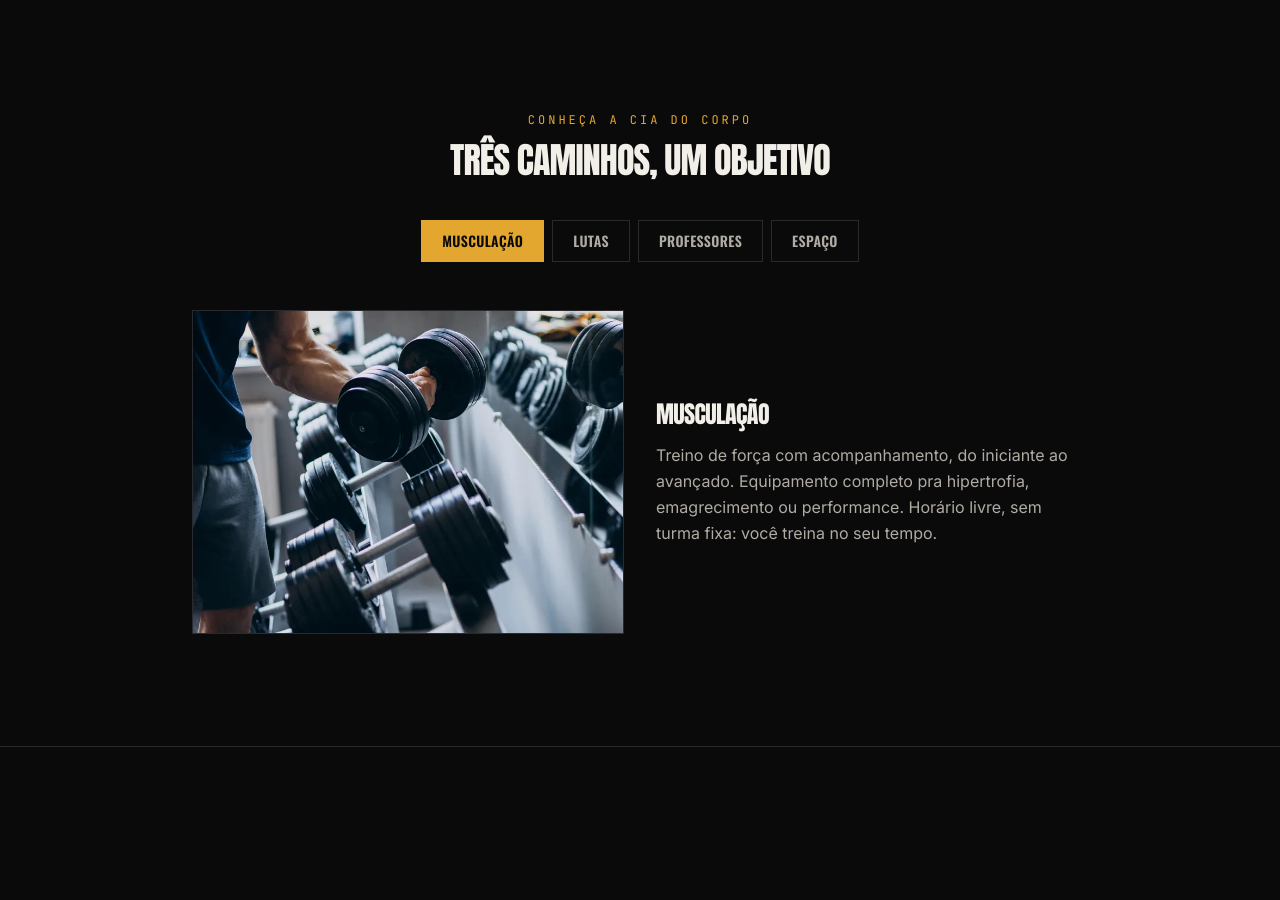
SessoesTabs › troca pra aba Lutas e mostra Kickboxing e Jiu-Jitsu
Click the tab "Lutas".
click(591, 241)  # box 552,220 -> 630,262
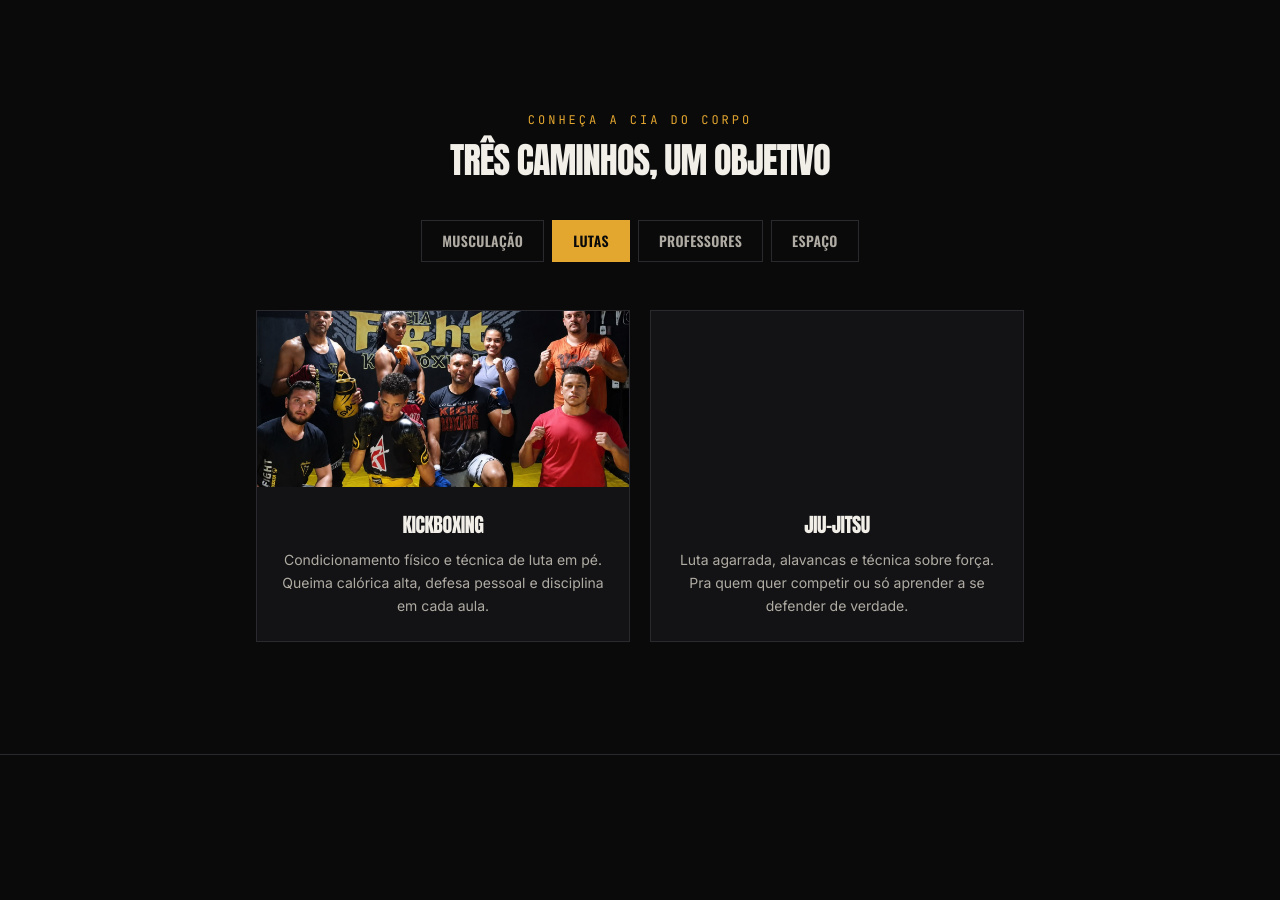
Result: the heading "Kickboxing" is shown at 402,509 -> 484,540
Result: the heading "Jiu-Jitsu" is shown at 804,509 -> 870,540
